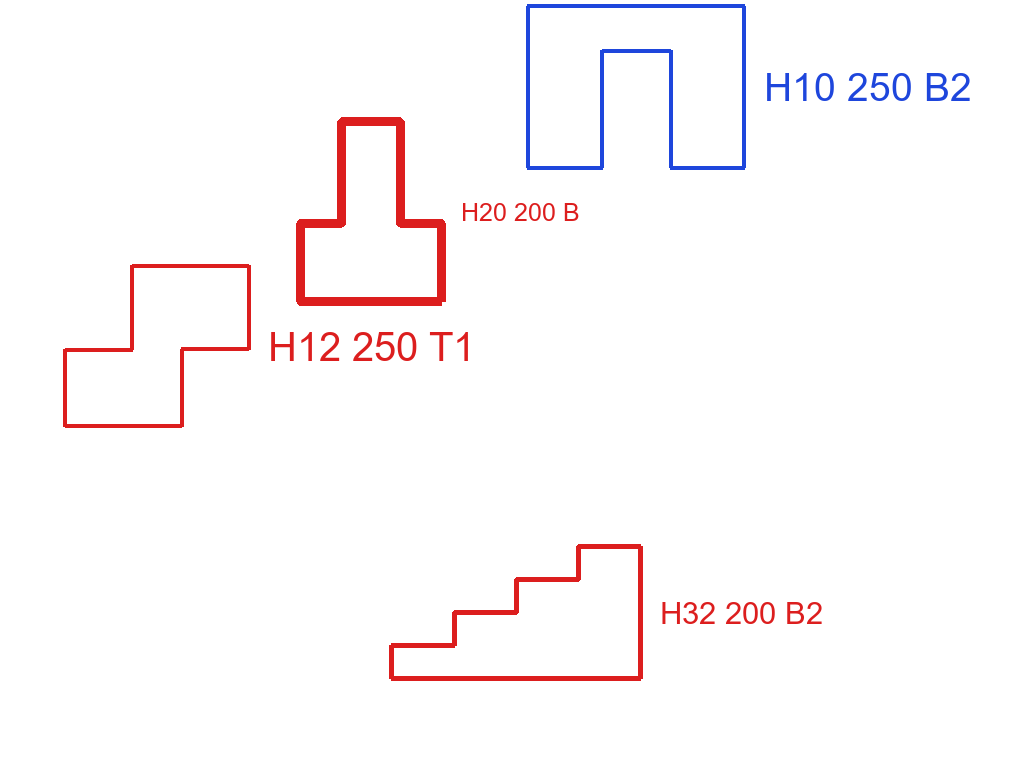shape: (524, 3, 748, 172), (387, 542, 645, 683), (61, 262, 252, 431), (294, 115, 448, 308)
text: (266, 330, 477, 363), (762, 71, 974, 103), (658, 600, 825, 626), (459, 201, 582, 223)
